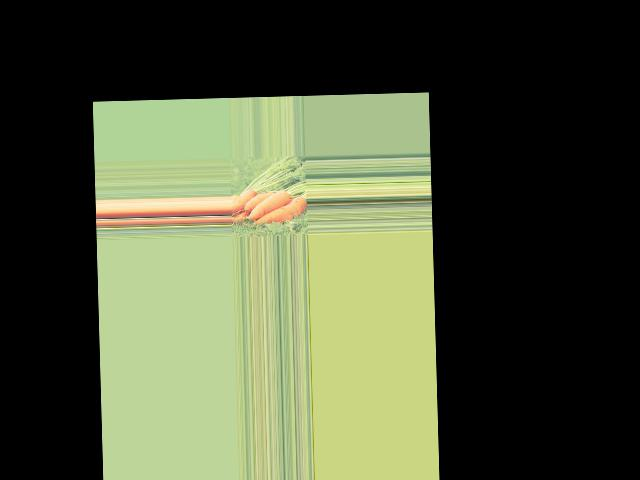carrot: (233, 186, 257, 215)
